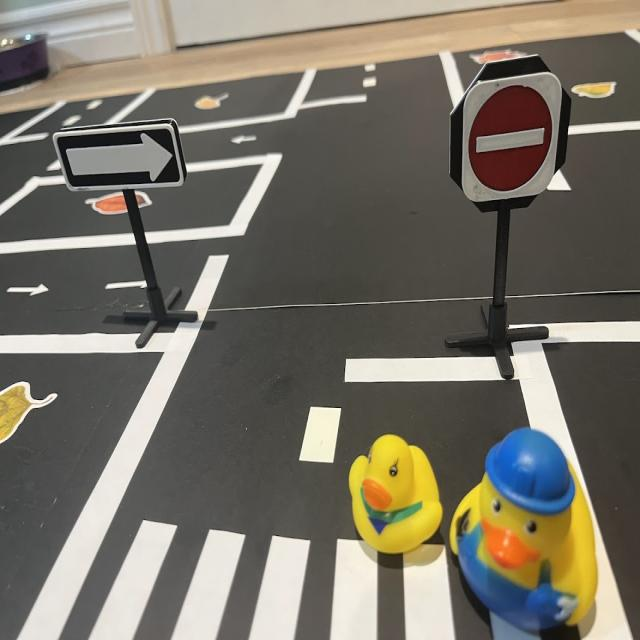duck_regular: (349, 437, 445, 558)
duck_specialty: (447, 429, 604, 640)
road_crosswalk: (83, 511, 464, 640)
road_oneway: (102, 276, 152, 298), (4, 278, 50, 299), (230, 131, 260, 145)
sign_noentry: (464, 70, 564, 203)
sign_oneway_right: (53, 116, 188, 192)
